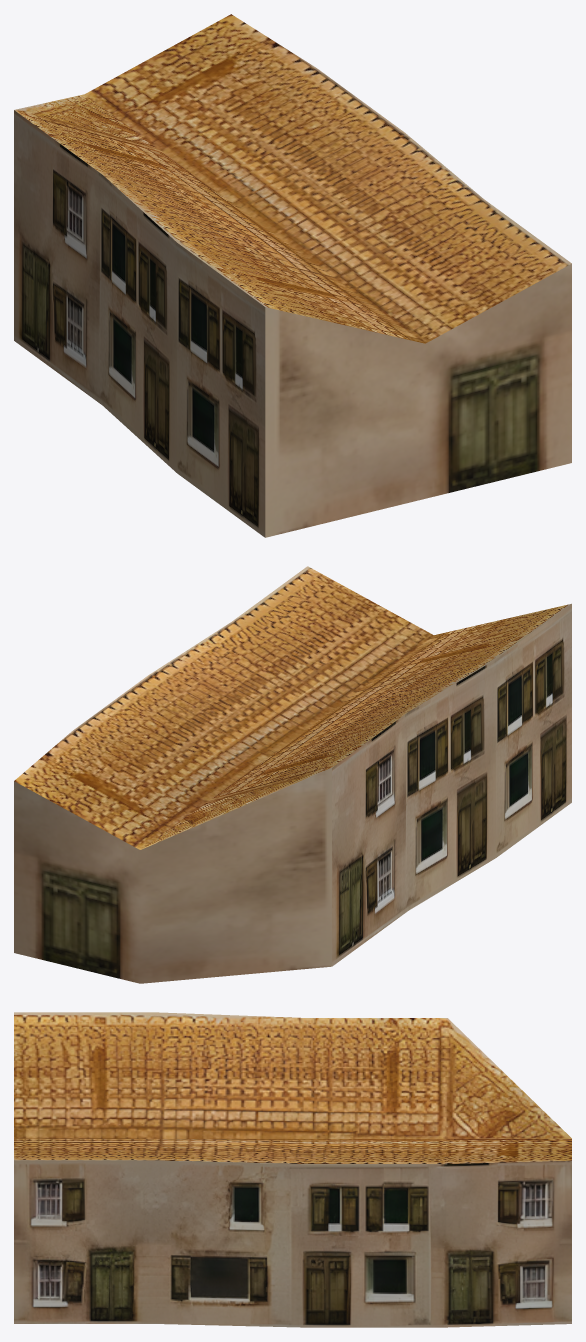
The model's file is villaset1.gltf.
The picture shows the model from 3 angles, top to bottom: view 1: azimuth 30°, elevation 25°; view 2: azimuth 150°, elevation 25°; view 3: azimuth 270°, elevation 25°; orthographic projection. The views are drawn at different scales.
Parts seen in each view (by area): view 1: villaset1_atomic0; view 2: villaset1_atomic0; view 3: villaset1_atomic0.
Boxes of the visible parts, x1=… form: villaset1_atomic0: x1=14, y1=14, x2=571, y2=537; villaset1_atomic0: x1=14, y1=566, x2=571, y2=983; villaset1_atomic0: x1=14, y1=1012, x2=571, y2=1327.
Bounding box in the file's own units: 25.84 × 18.05 × 48.31.
Materials: 1 (1 with a texture image).
